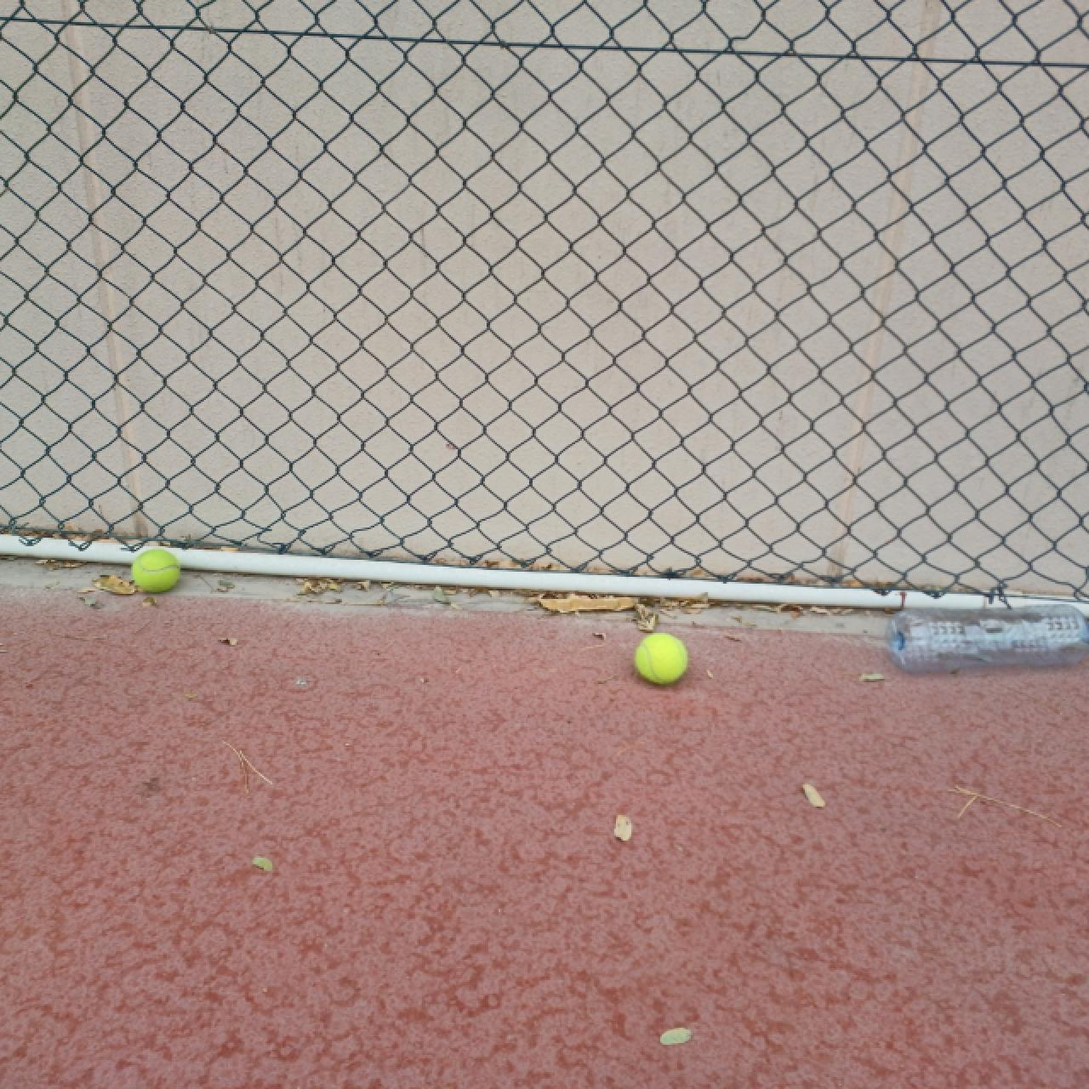tennis-ball: (636, 633, 691, 685), (131, 549, 181, 594)
